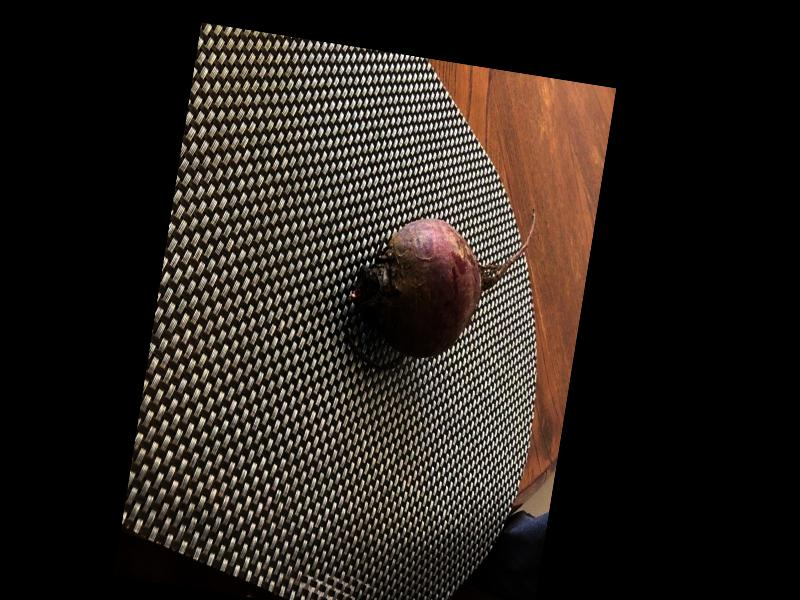Beet: (338, 184, 536, 391)
